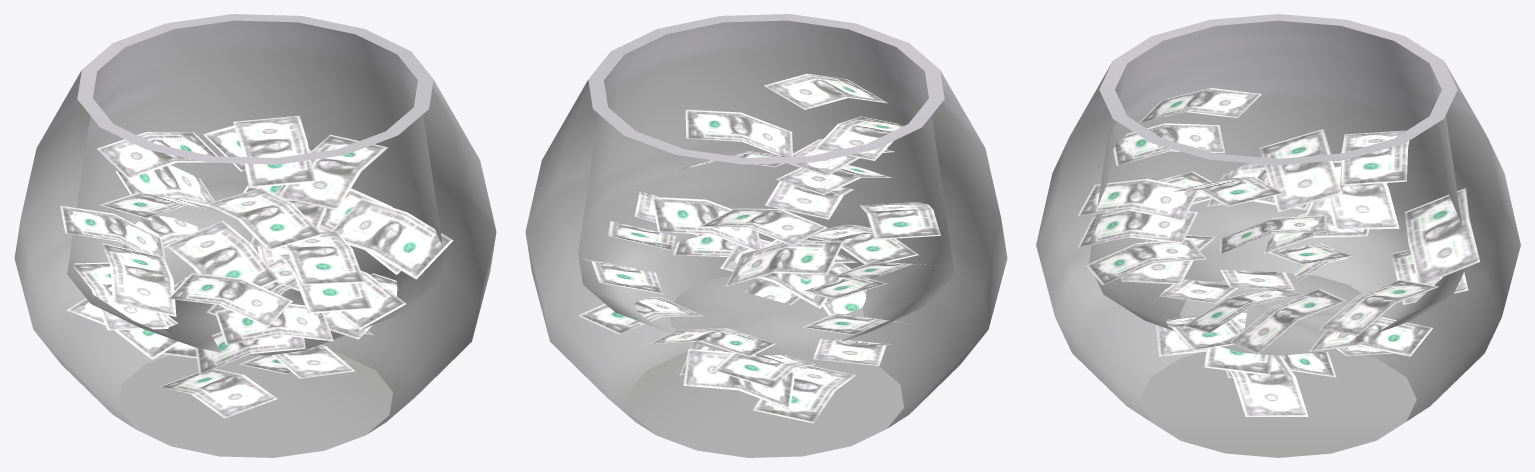
The picture shows the model from 3 angles, left to right: view 1: azimuth 30°, elevation 25°; view 2: azimuth 150°, elevation 25°; view 3: azimuth 270°, elevation 25°; orthographic projection.
Visible parts, largest first — view 1: TipJar; view 2: TipJar; view 3: TipJar.
Boxes of the visible parts, box(x1,y1,x2,y2) form: TipJar: box(14, 14, 496, 457); TipJar: box(525, 14, 1007, 457); TipJar: box(1036, 14, 1520, 457).
Size of what is drawn, in the model's own units: 0.6922 by 0.4879 by 0.6922.
1 material, 1 textured.
